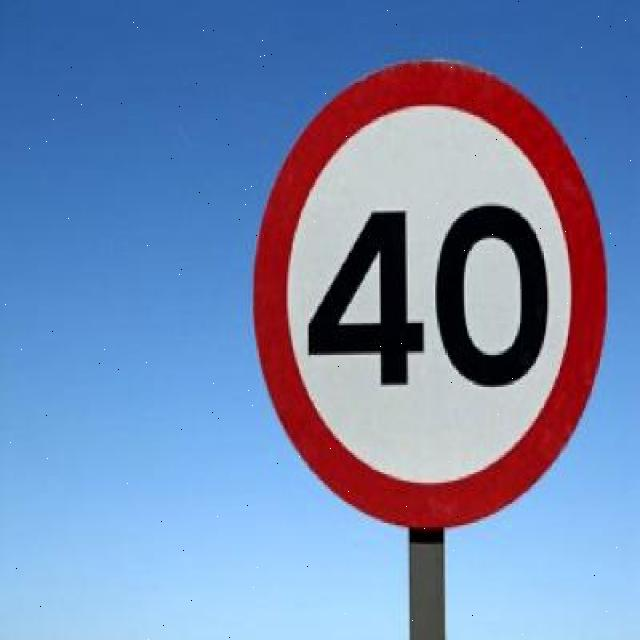speed limit 40: (253, 56, 609, 530)
